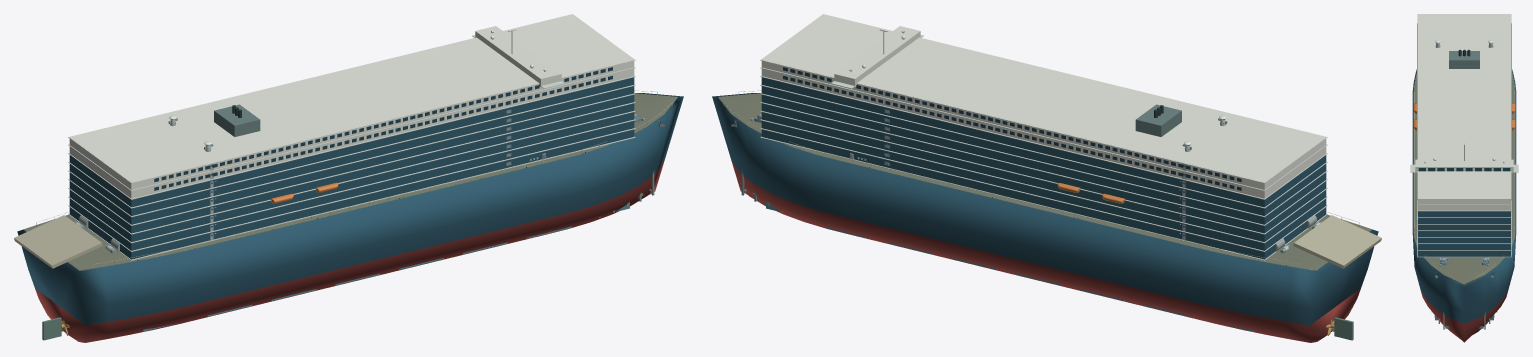
The model's file is hoegh-aurora.lod0.glb.
3 views of the same model, side by side, from view 1: azimuth 30°, elevation 25°; view 2: azimuth 150°, elevation 25°; view 3: azimuth 270°, elevation 25° (orthographic). The views are drawn at different scales.
Visible parts, largest first — view 1: hoegh-aurora.structure.hull.outer-hull-shell.1, hoegh-aurora.accommodation.superstructure.deck-9-enclosure.1, hoegh-aurora.structure.hull.antifouling-underwater-shell.1, hoegh-aurora.accommodation.superstructure.deck-5-enclosure.1, hoegh-aurora.accommodation.superstructure.deck-6-enclosure.1, hoegh-aurora.accommodation.superstructure.deck-2-enclosure.1, hoegh-aurora.accommodation.superstructure.deck-7-enclosure.1, hoegh-aurora.accommodation.superstructure.deck-4-enclosure.1, hoegh-aurora.accommodation.superstructure.deck-1-enclosure.1, hoegh-aurora.accommodation.superstructure.deck-3-enclosure.1, hoegh-aurora.structure.decks.main-strength-deck.1, hoegh-aurora.accommodation.superstructure.deck-8-enclosure.1 (+13 smaller); view 2: hoegh-aurora.structure.hull.outer-hull-shell.1, hoegh-aurora.accommodation.superstructure.deck-9-enclosure.1, hoegh-aurora.structure.hull.antifouling-underwater-shell.1, hoegh-aurora.accommodation.superstructure.deck-5-enclosure.1, hoegh-aurora.accommodation.superstructure.deck-6-enclosure.1, hoegh-aurora.accommodation.superstructure.deck-2-enclosure.1, hoegh-aurora.accommodation.superstructure.deck-7-enclosure.1, hoegh-aurora.accommodation.superstructure.deck-4-enclosure.1, hoegh-aurora.accommodation.superstructure.deck-1-enclosure.1, hoegh-aurora.accommodation.superstructure.deck-3-enclosure.1, hoegh-aurora.structure.decks.main-strength-deck.1, hoegh-aurora.accommodation.superstructure.deck-8-enclosure.1 (+13 smaller); view 3: hoegh-aurora.accommodation.superstructure.deck-9-enclosure.1, hoegh-aurora.structure.hull.outer-hull-shell.1, hoegh-aurora.structure.decks.main-strength-deck.1, hoegh-aurora.navigation.bridge.wheelhouse.1, hoegh-aurora.structure.hull.antifouling-underwater-shell.1, hoegh-aurora.accommodation.superstructure.deck-1-enclosure.1, hoegh-aurora.accommodation.superstructure.deck-3-enclosure.1, hoegh-aurora.accommodation.superstructure.deck-5-enclosure.1, hoegh-aurora.accommodation.superstructure.deck-7-enclosure.1, hoegh-aurora.accommodation.superstructure.superstructure-wea, hoegh-aurora.accommodation.superstructure.deck-2-enclosure.1, hoegh-aurora.accommodation.superstructure.deck-4-enclosure.1 (+12 smaller).
Boxes of the visible parts, x1=… form: hoegh-aurora.structure.hull.outer-hull-shell.1: x1=17, y1=93, x2=683, y2=325; hoegh-aurora.accommodation.superstructure.deck-9-enclosure.1: x1=69, y1=14, x2=634, y2=189; hoegh-aurora.structure.hull.antifouling-underwater-shell.1: x1=35, y1=160, x2=664, y2=342; hoegh-aurora.accommodation.superstructure.deck-5-enclosure.1: x1=69, y1=94, x2=634, y2=224; hoegh-aurora.accommodation.superstructure.deck-6-enclosure.1: x1=69, y1=86, x2=634, y2=215; hoegh-aurora.accommodation.superstructure.deck-2-enclosure.1: x1=69, y1=121, x2=634, y2=250; hoegh-aurora.accommodation.superstructure.deck-7-enclosure.1: x1=69, y1=77, x2=634, y2=207; hoegh-aurora.accommodation.superstructure.deck-4-enclosure.1: x1=69, y1=103, x2=634, y2=233; hoegh-aurora.accommodation.superstructure.deck-1-enclosure.1: x1=69, y1=129, x2=634, y2=259; hoegh-aurora.accommodation.superstructure.deck-3-enclosure.1: x1=69, y1=112, x2=634, y2=241; hoegh-aurora.structure.decks.main-strength-deck.1: x1=24, y1=93, x2=677, y2=270; hoegh-aurora.accommodation.superstructure.deck-8-enclosure.1: x1=69, y1=68, x2=634, y2=198; hoegh-aurora.structure.hull.outer-hull-shell.1: x1=712, y1=93, x2=1378, y2=325; hoegh-aurora.accommodation.superstructure.deck-9-enclosure.1: x1=761, y1=14, x2=1326, y2=189; hoegh-aurora.structure.hull.antifouling-underwater-shell.1: x1=731, y1=160, x2=1360, y2=342; hoegh-aurora.accommodation.superstructure.deck-5-enclosure.1: x1=761, y1=94, x2=1326, y2=224; hoegh-aurora.accommodation.superstructure.deck-6-enclosure.1: x1=761, y1=86, x2=1326, y2=215; hoegh-aurora.accommodation.superstructure.deck-2-enclosure.1: x1=761, y1=121, x2=1326, y2=250; hoegh-aurora.accommodation.superstructure.deck-7-enclosure.1: x1=761, y1=77, x2=1326, y2=207; hoegh-aurora.accommodation.superstructure.deck-4-enclosure.1: x1=761, y1=103, x2=1326, y2=233; hoegh-aurora.accommodation.superstructure.deck-1-enclosure.1: x1=761, y1=129, x2=1326, y2=259; hoegh-aurora.accommodation.superstructure.deck-3-enclosure.1: x1=761, y1=112, x2=1326, y2=241; hoegh-aurora.structure.decks.main-strength-deck.1: x1=718, y1=93, x2=1371, y2=270; hoegh-aurora.accommodation.superstructure.deck-8-enclosure.1: x1=761, y1=68, x2=1326, y2=198; hoegh-aurora.accommodation.superstructure.deck-9-enclosure.1: x1=1418, y1=14, x2=1510, y2=204; hoegh-aurora.structure.hull.outer-hull-shell.1: x1=1412, y1=69, x2=1516, y2=323; hoegh-aurora.structure.decks.main-strength-deck.1: x1=1413, y1=74, x2=1515, y2=284; hoegh-aurora.navigation.bridge.wheelhouse.1: x1=1415, y1=159, x2=1513, y2=172; hoegh-aurora.structure.hull.antifouling-underwater-shell.1: x1=1420, y1=288, x2=1508, y2=342; hoegh-aurora.accommodation.superstructure.deck-1-enclosure.1: x1=1418, y1=250, x2=1510, y2=256; hoegh-aurora.accommodation.superstructure.deck-3-enclosure.1: x1=1418, y1=237, x2=1510, y2=243; hoegh-aurora.accommodation.superstructure.deck-5-enclosure.1: x1=1418, y1=224, x2=1510, y2=230; hoegh-aurora.accommodation.superstructure.deck-7-enclosure.1: x1=1418, y1=211, x2=1510, y2=217; hoegh-aurora.accommodation.superstructure.superstructure-wea: x1=1417, y1=14, x2=1511, y2=199; hoegh-aurora.accommodation.superstructure.deck-2-enclosure.1: x1=1418, y1=244, x2=1510, y2=249; hoegh-aurora.accommodation.superstructure.deck-4-enclosure.1: x1=1418, y1=231, x2=1510, y2=236.
Size of the model in its own units: 204 by 58.71 by 39.19.
